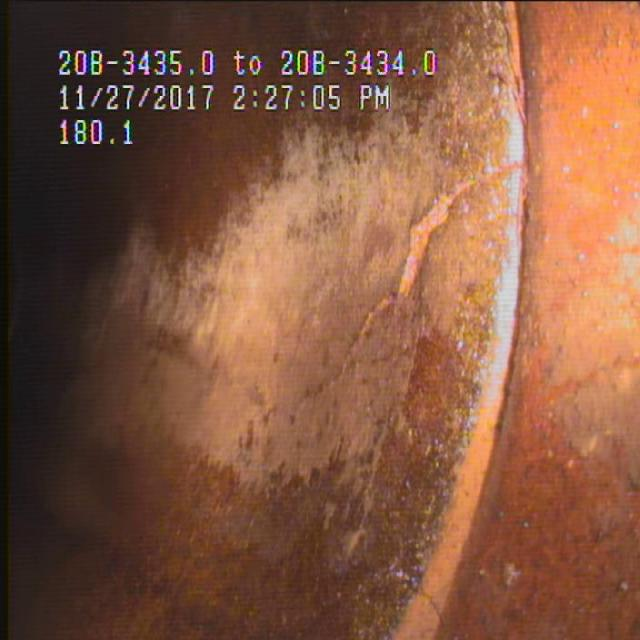Crack: (280, 135, 502, 454)
